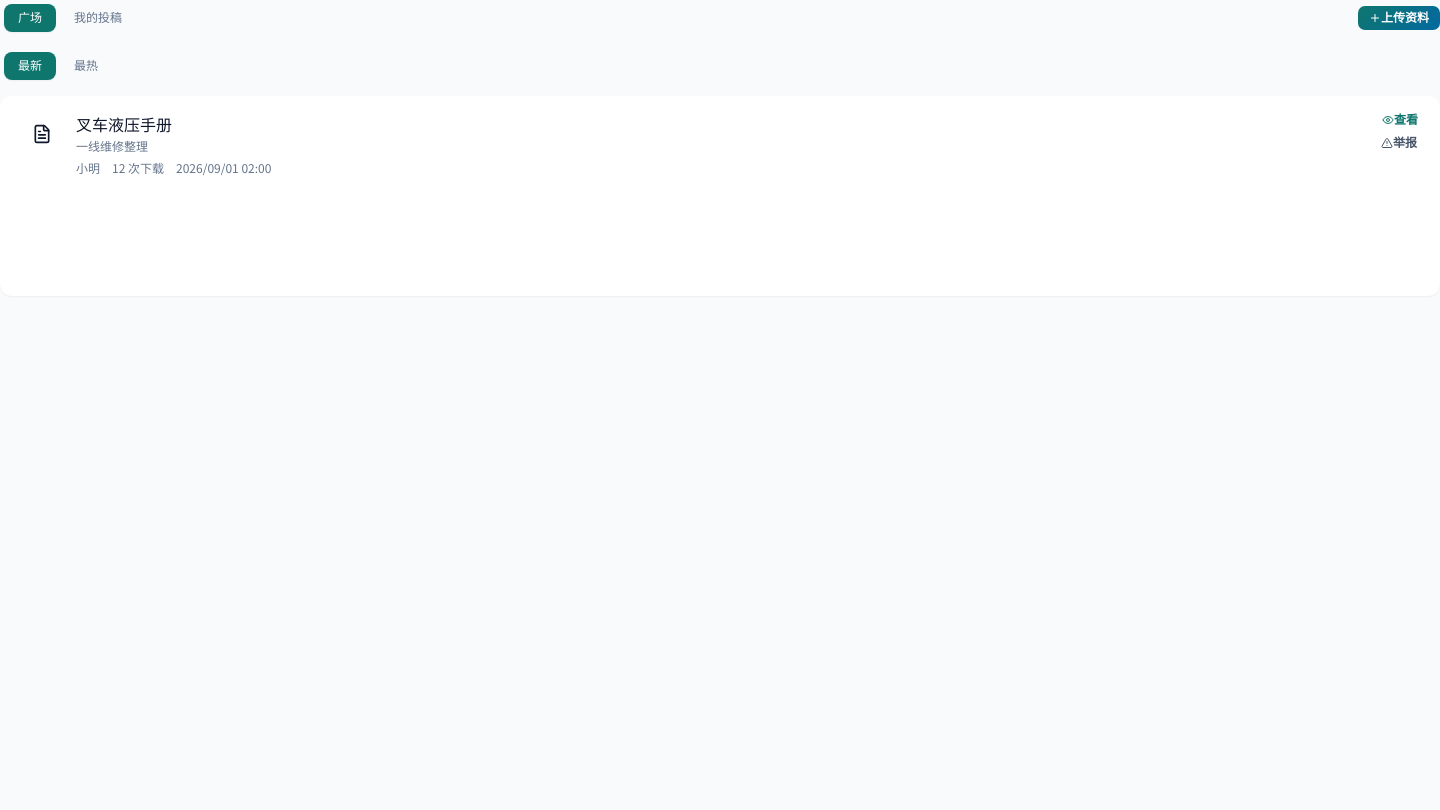
Test: ContributionTab 学员投稿（#517） › 广场卡片有「查看」入口（列表不带 files 也不受影响——回归守卫）
The width and height of the screenshot is (1440, 810).
Click the button "查看".
click(1400, 120)  # box [1380, 112, 1420, 128]
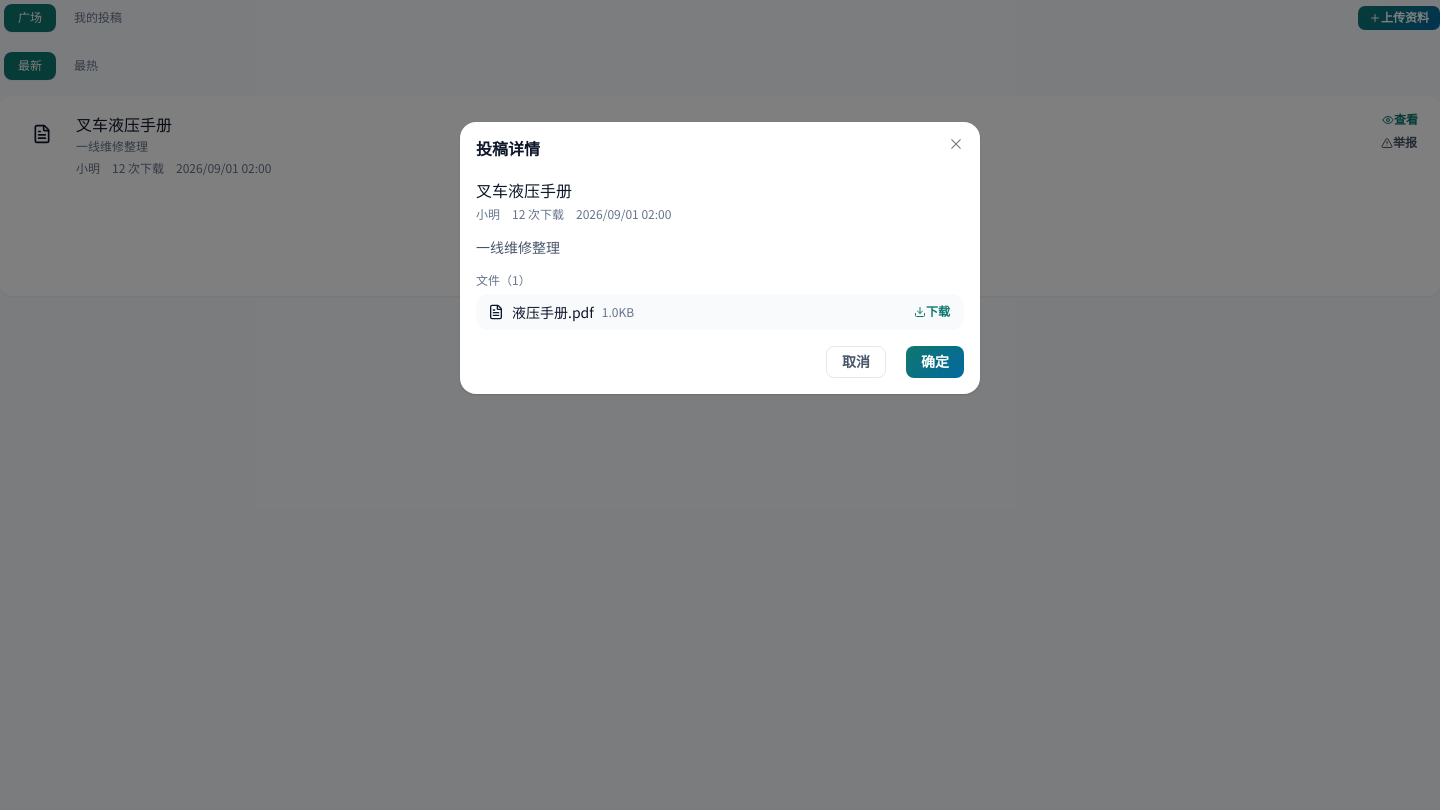
Now the text "液压手册.pdf" is shown, box [512, 302, 594, 322]
